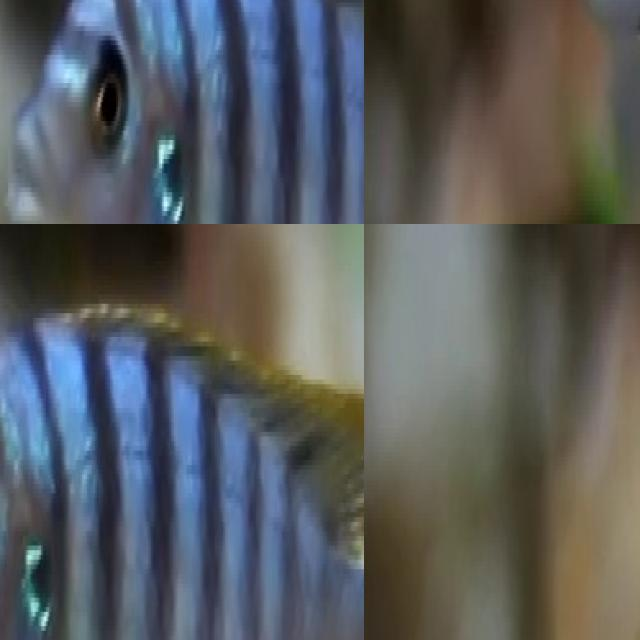fish: (0, 280, 364, 640), (0, 0, 364, 224)
